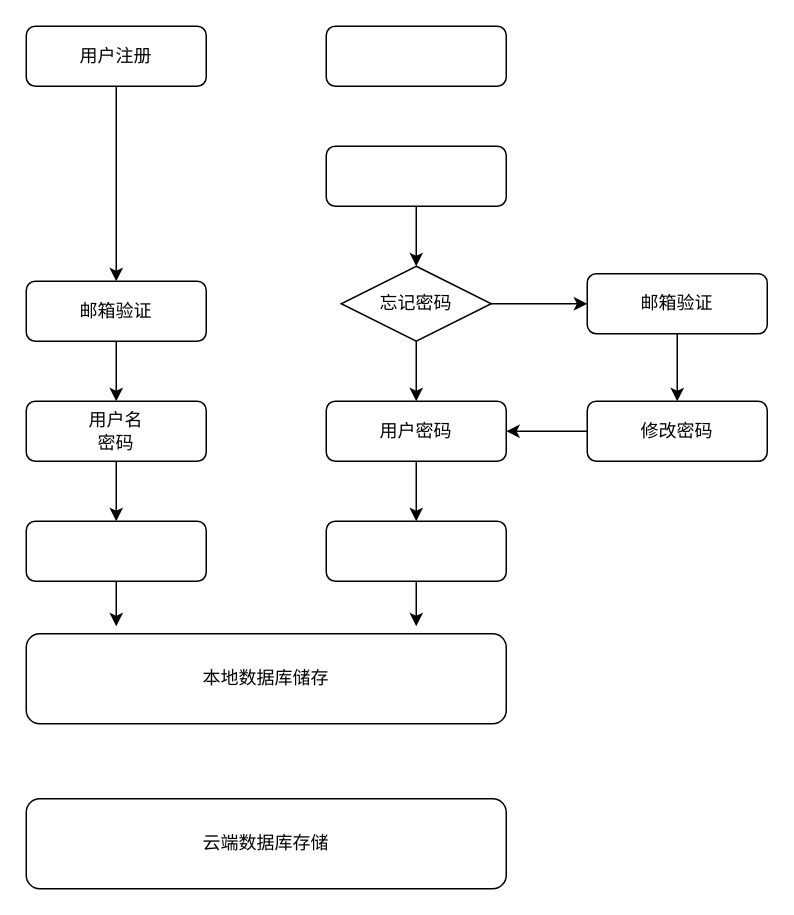
Some shapes in this 794 by 915 pixel diagram are drawn without their labels. The centre of each missing label's shape, as x and y in pixels:
"注册完成" goes at (115,550).
"用户登录" goes at (415,55).
"登录成功" goes at (415,550).
"邮箱、用户名登录" goes at (415,175).
